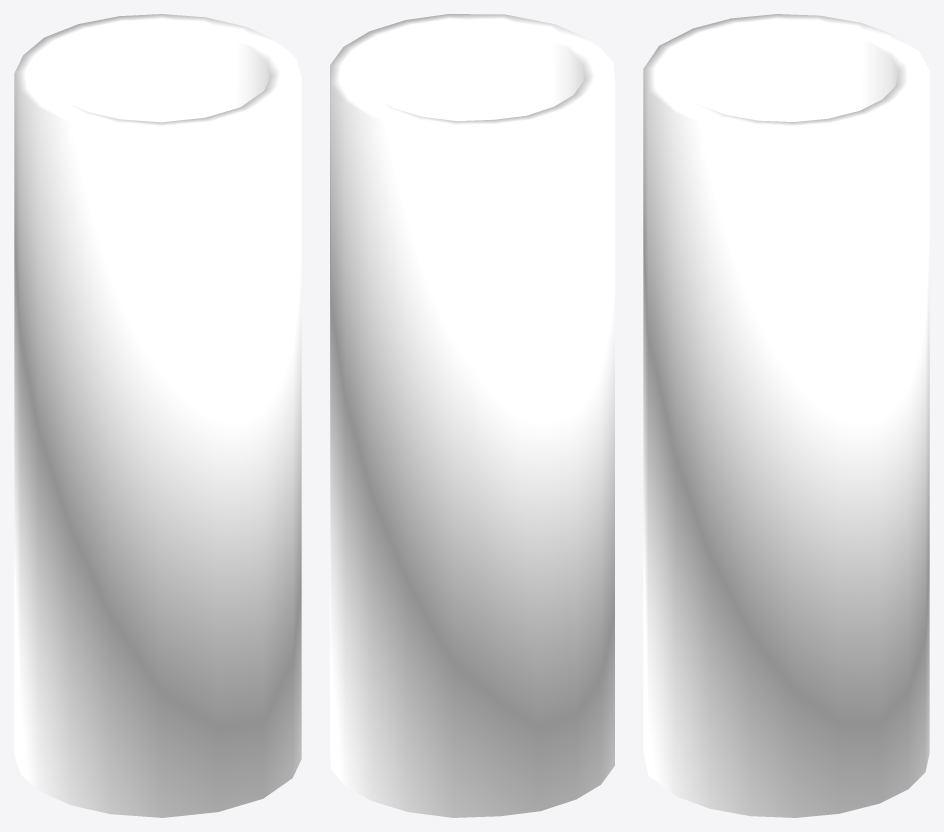
The picture shows the model from 3 angles, left to right: view 1: azimuth 30°, elevation 25°; view 2: azimuth 150°, elevation 25°; view 3: azimuth 270°, elevation 25°; orthographic projection.
Visible parts, largest first — view 1: GlassCup.001; view 2: GlassCup.001; view 3: GlassCup.001.
Boxes of the visible parts, x1,y1,x2,y2 form: GlassCup.001: (14,14,301,817); GlassCup.001: (330,14,614,817); GlassCup.001: (643,14,929,817).
Bounding box in the file's own units: 0.0965 × 0.2539 × 0.0964.
1 material, 1 textured.
